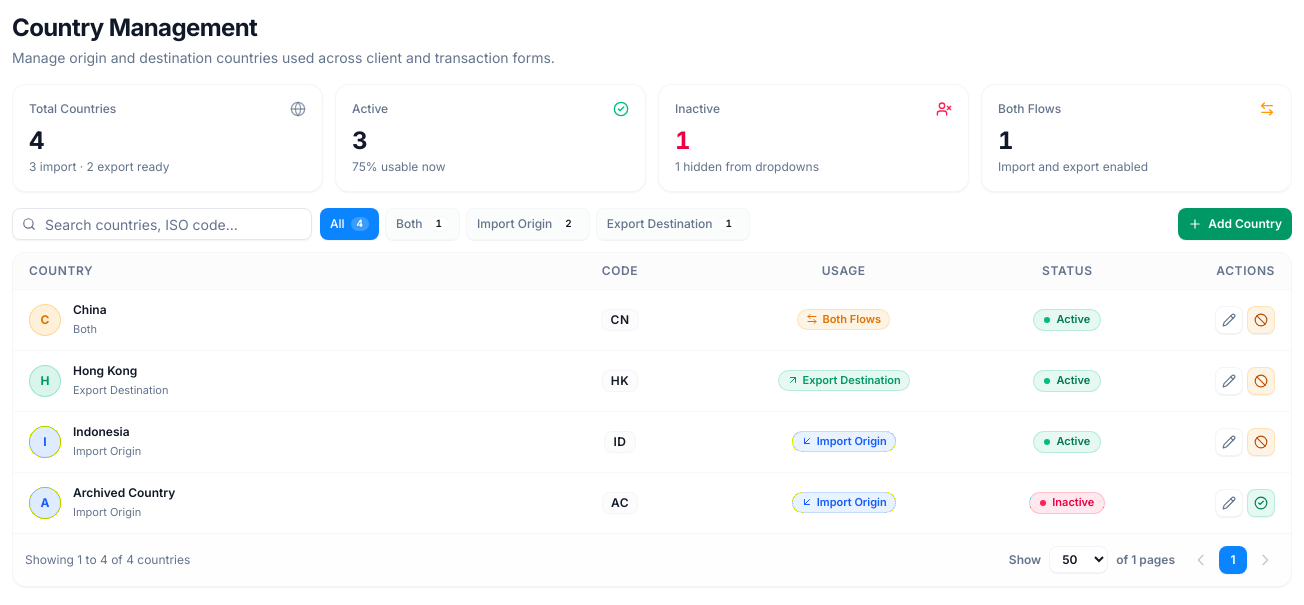
Test: CountryManagement › filters countries by search query
Type "Hong" into the field with placeholder "Search countries, ISO code..." at (162, 224), box [12,208,312,240]
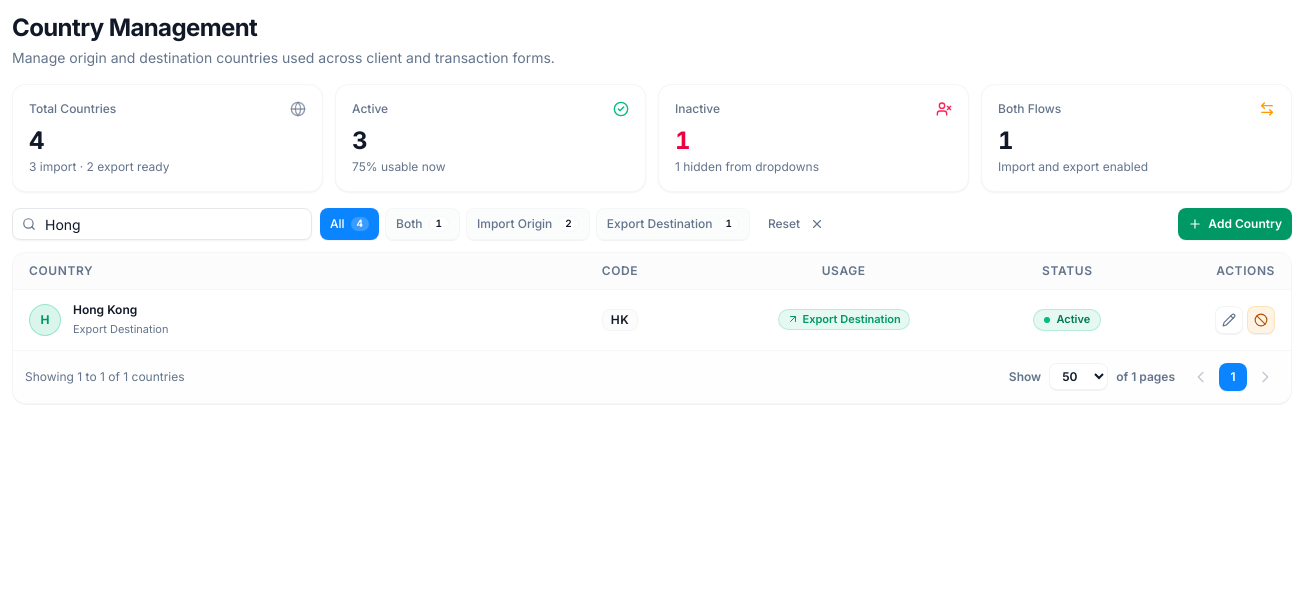
expect the text "Hong Kong" is shown: met, box [73,302,137,316]
expect the text "China" is gone: met
